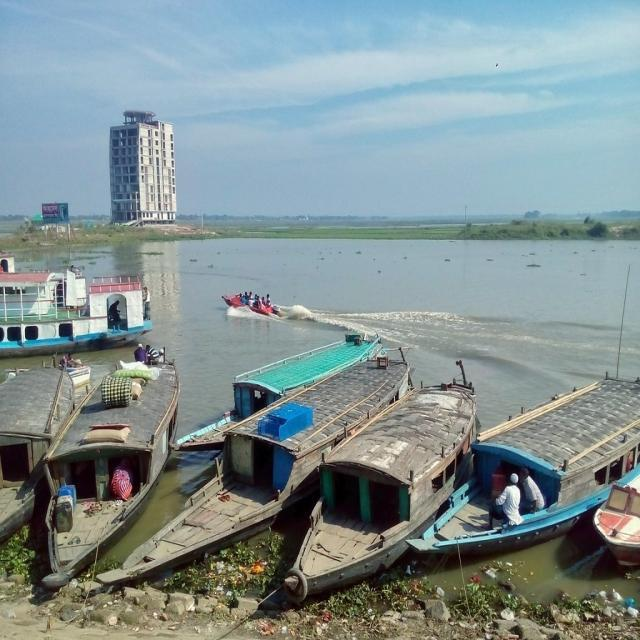boat: (209, 282, 289, 321)
